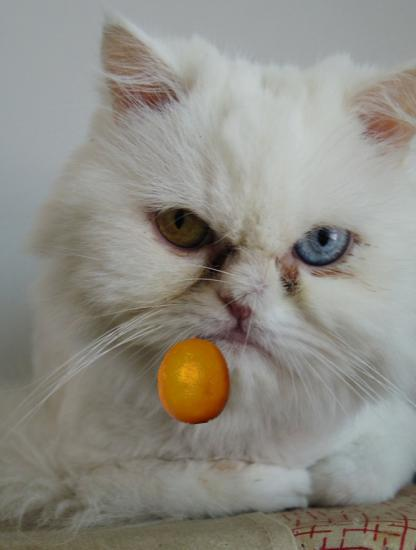Lemon: (150, 337, 238, 425)
